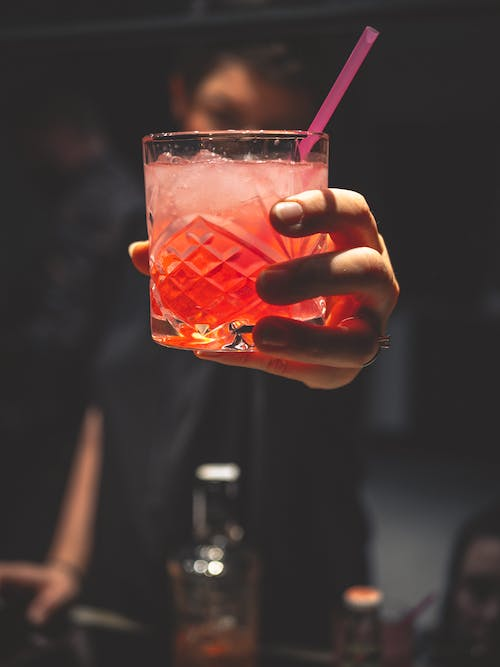alcohol: (140, 129, 330, 353)
